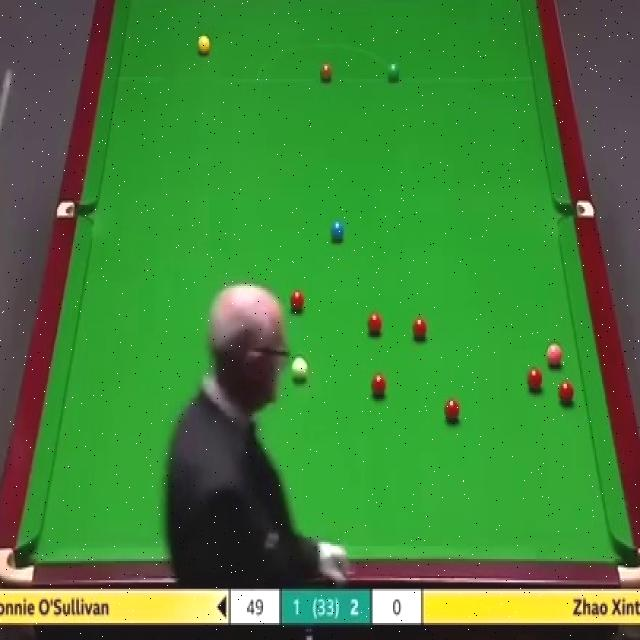blue-ball: (330, 217, 345, 245)
brown-ball: (319, 63, 334, 82)
green-ball: (386, 60, 401, 84)
pink-ball: (545, 343, 563, 368)
red-ball: (365, 312, 383, 338), (526, 366, 542, 394), (443, 398, 460, 423), (370, 373, 386, 399), (413, 315, 428, 342), (560, 381, 575, 406), (289, 289, 304, 311)
white-ball: (290, 356, 308, 382)
yellow-ball: (198, 36, 210, 56)
